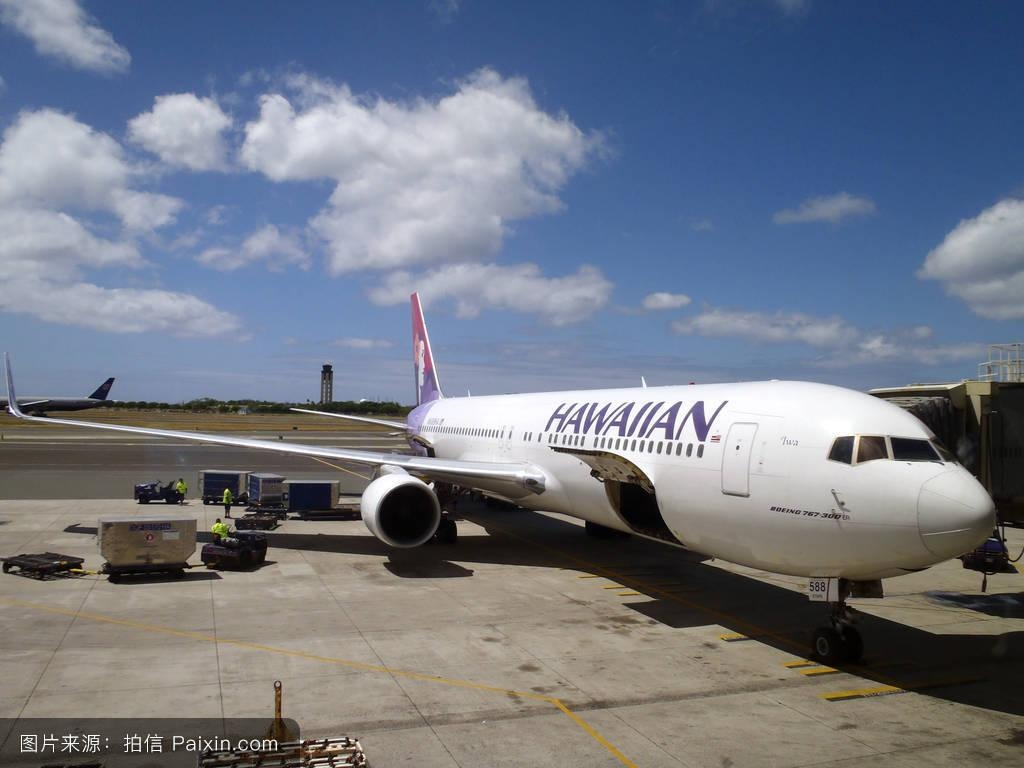airplane: (3, 289, 1007, 632)
